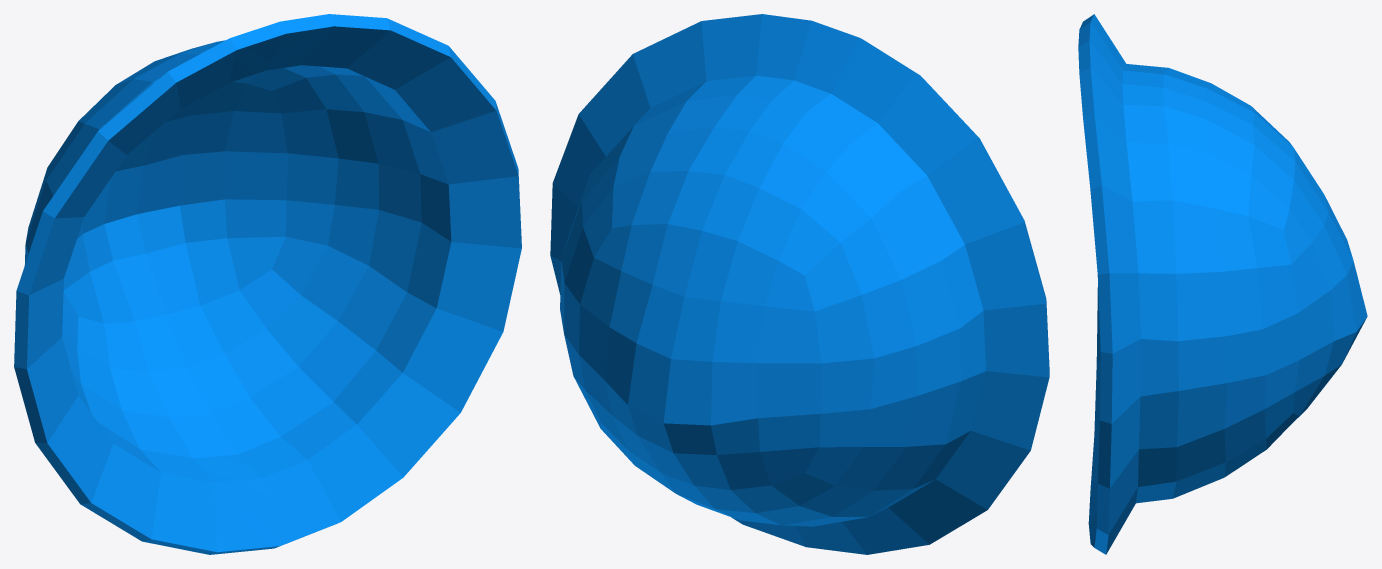
The picture shows the model from 3 angles, left to right: view 1: azimuth 30°, elevation 25°; view 2: azimuth 150°, elevation 25°; view 3: azimuth 270°, elevation 25°; orthographic projection. The views are drawn at different scales.
Parts seen in each view (by area): view 1: Stickman_heads_sphere.021; view 2: Stickman_heads_sphere.021; view 3: Stickman_heads_sphere.021.
Boxes of the visible parts, left/top/right/bottom form: Stickman_heads_sphere.021: left=14, top=14, right=521, bottom=554; Stickman_heads_sphere.021: left=550, top=14, right=1049, bottom=554; Stickman_heads_sphere.021: left=1078, top=14, right=1367, bottom=554.
Size of the model in its own units: 78.8 by 78.79 by 42.14.
